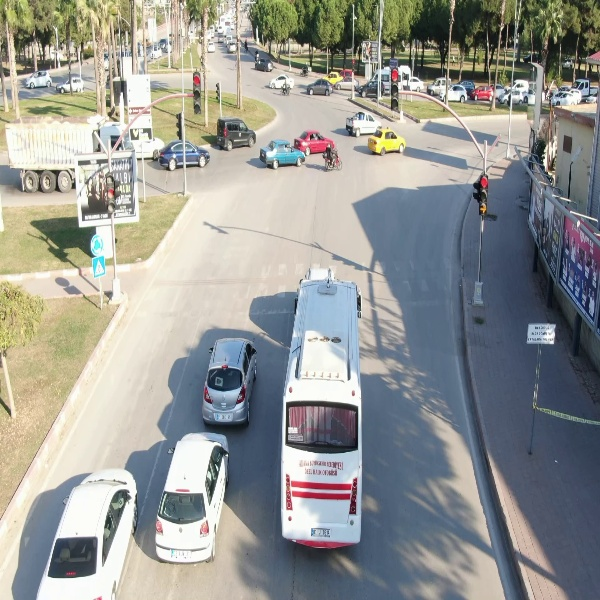car: (151, 430, 232, 566), (196, 336, 259, 430), (157, 136, 209, 173), (257, 139, 307, 170), (214, 118, 257, 153), (367, 126, 408, 156), (24, 68, 52, 91), (439, 83, 471, 103), (356, 78, 387, 98), (56, 75, 88, 94), (306, 78, 334, 98), (550, 91, 581, 107), (251, 57, 276, 72)
